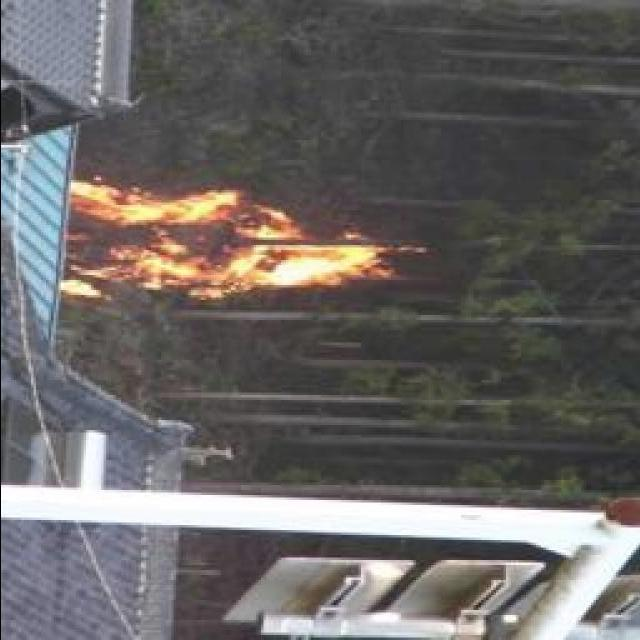Fire: (60, 182, 390, 318)
